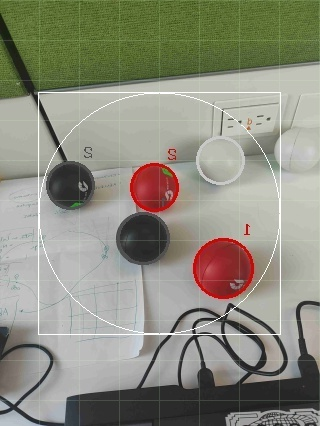Pelota blanca: (0, 342, 55, 425), (197, 134, 246, 187), (274, 126, 320, 174)
Pelota negra: (117, 209, 172, 264), (45, 158, 97, 211)
Pelota roja: (191, 236, 257, 302), (130, 161, 180, 214)
